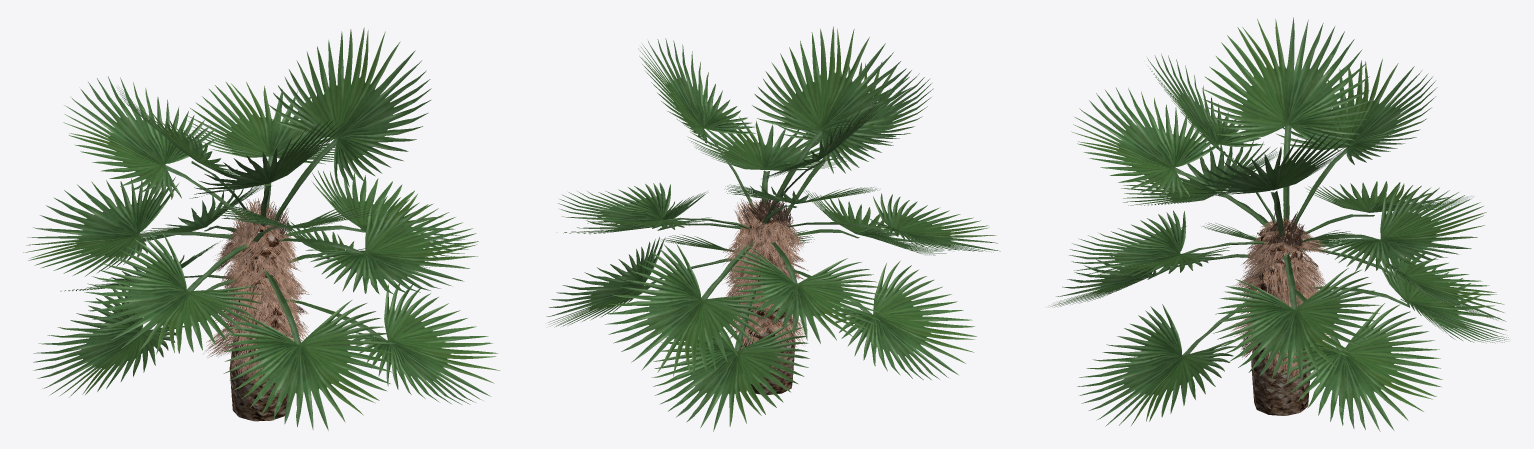
Rendered from chi_LOD0.fbx.
The picture shows the model from 3 angles, left to right: view 1: azimuth 30°, elevation 25°; view 2: azimuth 150°, elevation 25°; view 3: azimuth 270°, elevation 25°; orthographic projection. The views are drawn at different scales.
Parts seen in each view (by area): view 1: Mesh Object; view 2: Mesh Object; view 3: Mesh Object.
Boxes of the visible parts, x1,y1,x2,y2 form: Mesh Object: (23,27,500,430); Mesh Object: (546,26,1000,431); Mesh Object: (1050,17,1508,431).
Bounding box in the file's own units: 9.44 × 7.41 × 9.63.
